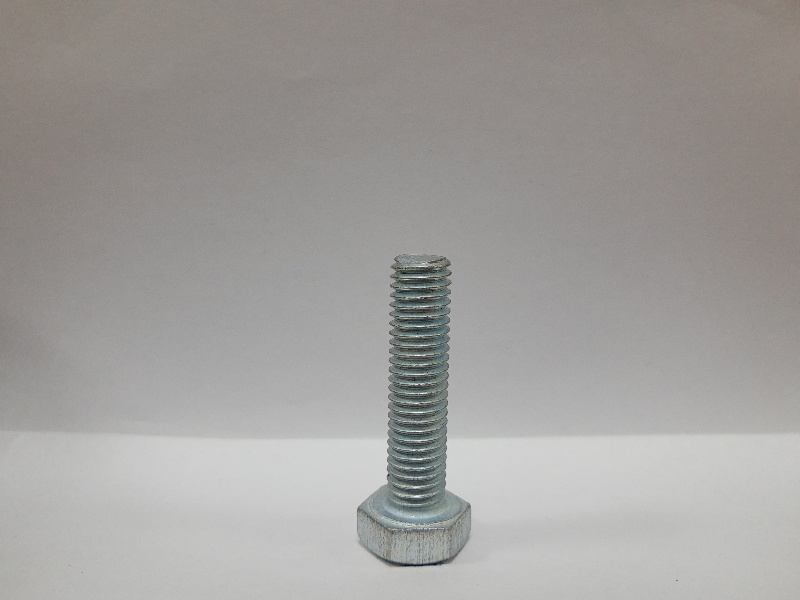pf: (353, 246, 481, 568)
